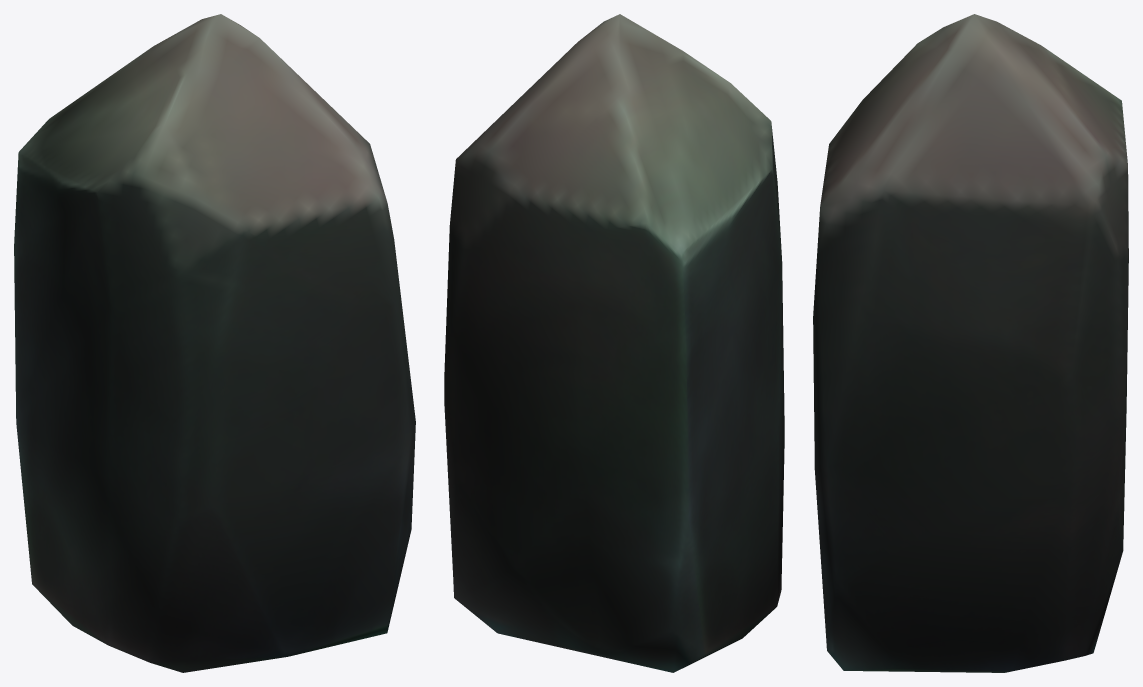
File: SM_Gem_BlackQuartz_005.fbx
3 views of the same model, side by side, from view 1: azimuth 30°, elevation 25°; view 2: azimuth 150°, elevation 25°; view 3: azimuth 270°, elevation 25° (orthographic). The views are drawn at different scales.
Parts seen in each view (by area): view 1: SM_Gem_BlackQuartz_005; view 2: SM_Gem_BlackQuartz_005; view 3: SM_Gem_BlackQuartz_005.
Boxes of the visible parts, box(x1,y1,x2,y2) form: SM_Gem_BlackQuartz_005: box(14, 14, 415, 672); SM_Gem_BlackQuartz_005: box(444, 14, 784, 672); SM_Gem_BlackQuartz_005: box(813, 14, 1128, 672).
Size of the model in its own units: 13.23 by 28.36 by 13.33.
